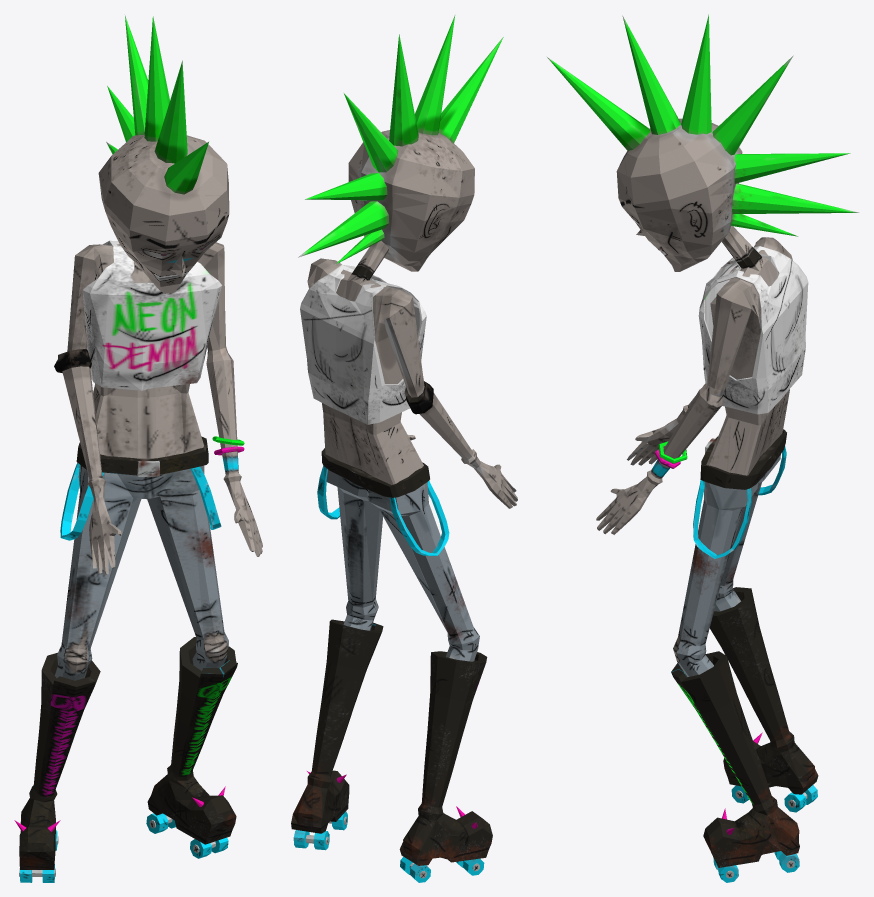
Rendered from punkAnimation_000010.obj.
3 renders of one model, left to right at view 1: azimuth 30°, elevation 25°; view 2: azimuth 150°, elevation 25°; view 3: azimuth 270°, elevation 25°, orthographic. The views are drawn at different scales.
Parts seen in each view (by area): view 1: Cube.004_Cube.003; view 2: Cube.004_Cube.003; view 3: Cube.004_Cube.003.
Part boxes in pixels (x1,y1,x2,y2): Cube.004_Cube.003: (14,15,262,882); Cube.004_Cube.003: (291,15,517,882); Cube.004_Cube.003: (546,14,859,882).
Bounding box in the file's own units: 1.82 × 7.37 × 2.52.
